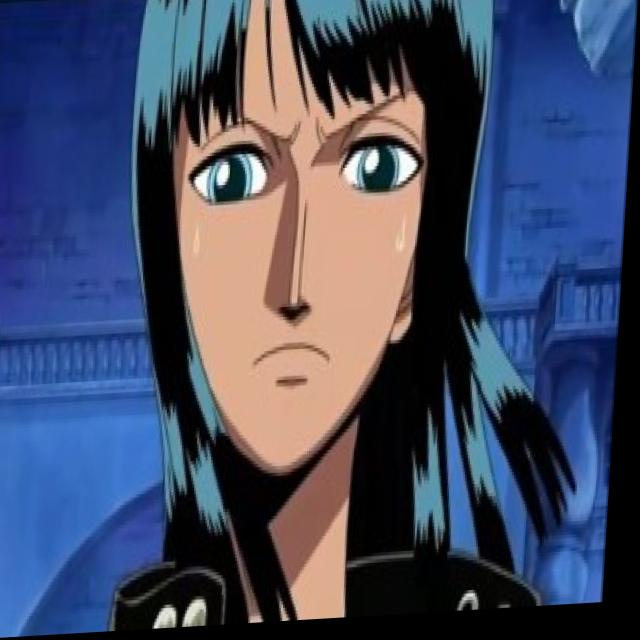NicoRobin: (107, 0, 517, 506)
